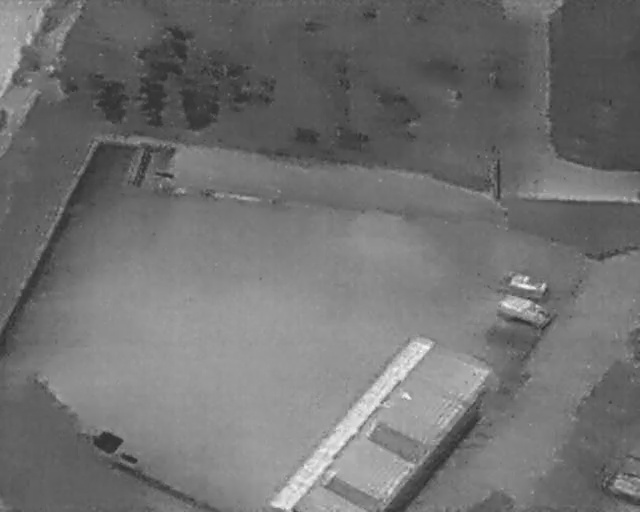Car: (494, 290, 554, 333), (505, 269, 550, 299)
